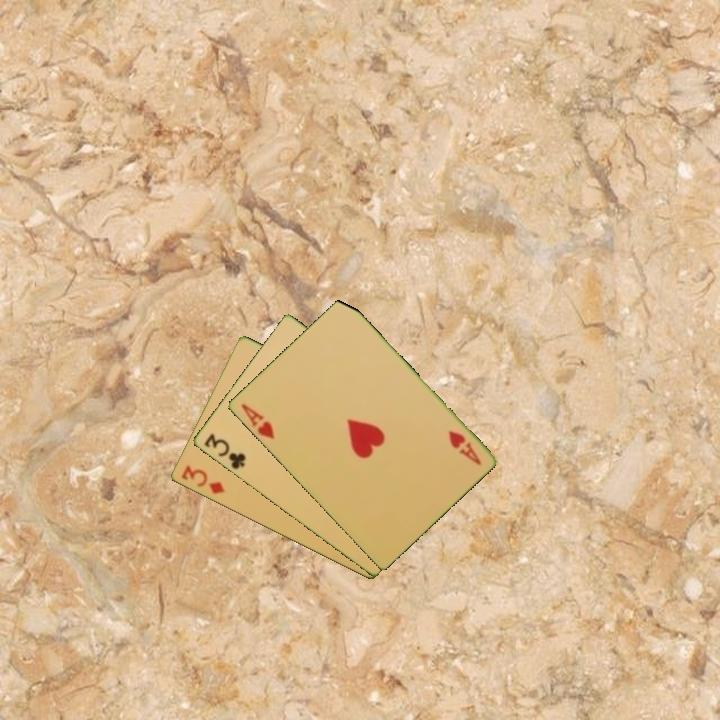3c: (200, 429, 249, 472)
3d: (177, 462, 227, 497)
Ah: (237, 400, 277, 442), (444, 427, 484, 468)
